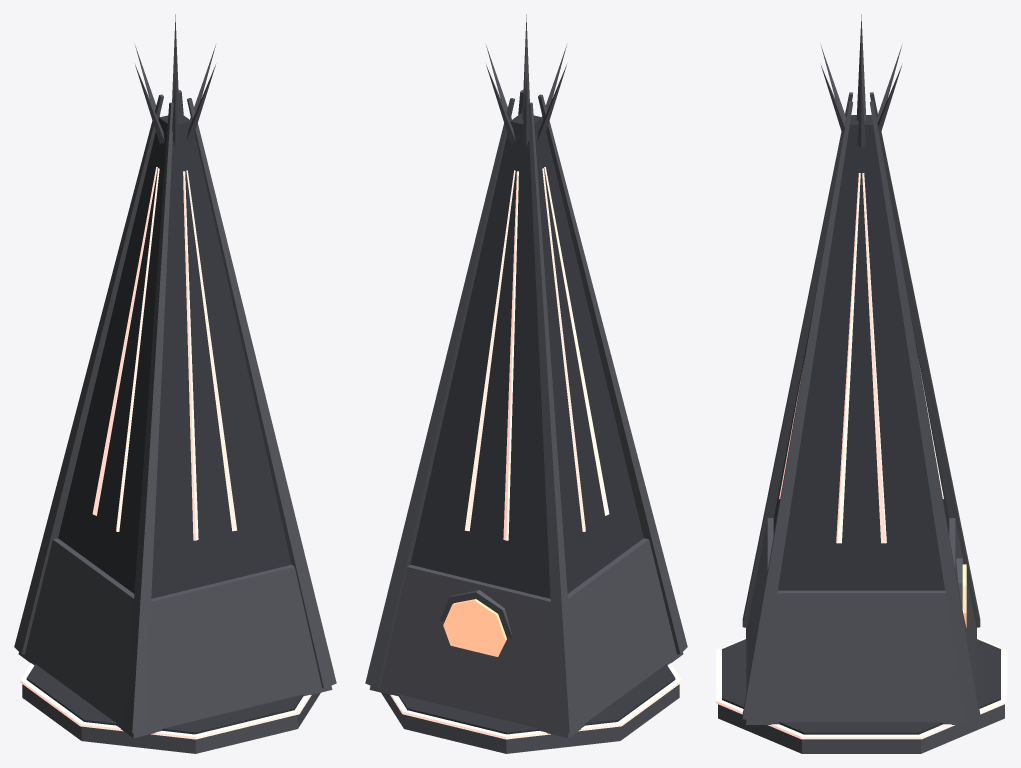
Rendered from zone_high_6.glb.
3 renders of one model, left to right at view 1: azimuth 30°, elevation 25°; view 2: azimuth 150°, elevation 25°; view 3: azimuth 270°, elevation 25°, orthographic.
Visible parts, largest first — view 1: zone_high_6; view 2: zone_high_6; view 3: zone_high_6.
Part boxes in pixels (left/top/right/bottom): zone_high_6: left=14, top=14, right=336, bottom=753; zone_high_6: left=365, top=14, right=687, bottom=753; zone_high_6: left=716, top=14, right=1006, bottom=753.
Bounding box in the file's own units: 27.35 × 70.48 × 27.35.
